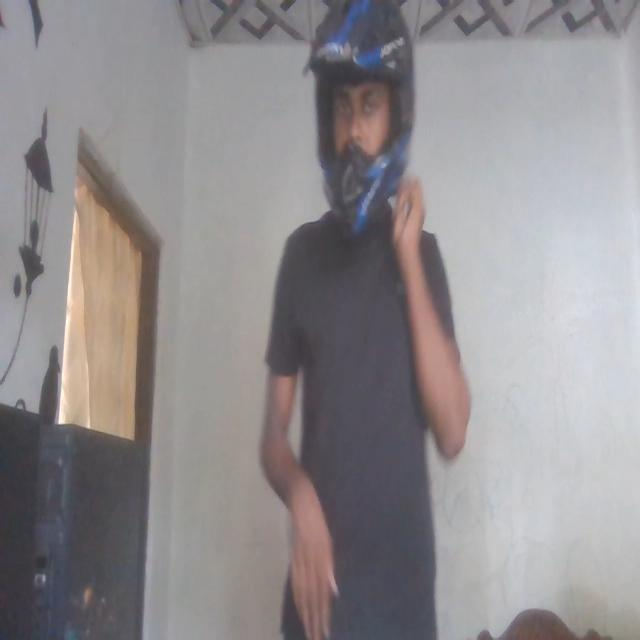Helmet_Wearer: (303, 1, 418, 240)
Person: (248, 2, 464, 640)
